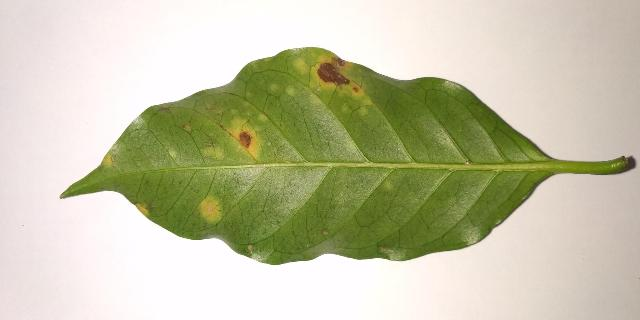miner: (294, 49, 372, 115), (222, 118, 263, 165), (200, 196, 221, 221), (204, 147, 225, 160), (134, 203, 148, 218), (102, 152, 113, 168), (286, 85, 296, 96), (258, 112, 268, 122), (271, 84, 278, 91)
